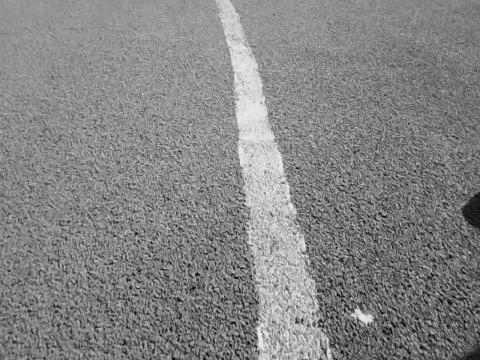Lines: (213, 0, 334, 360)
